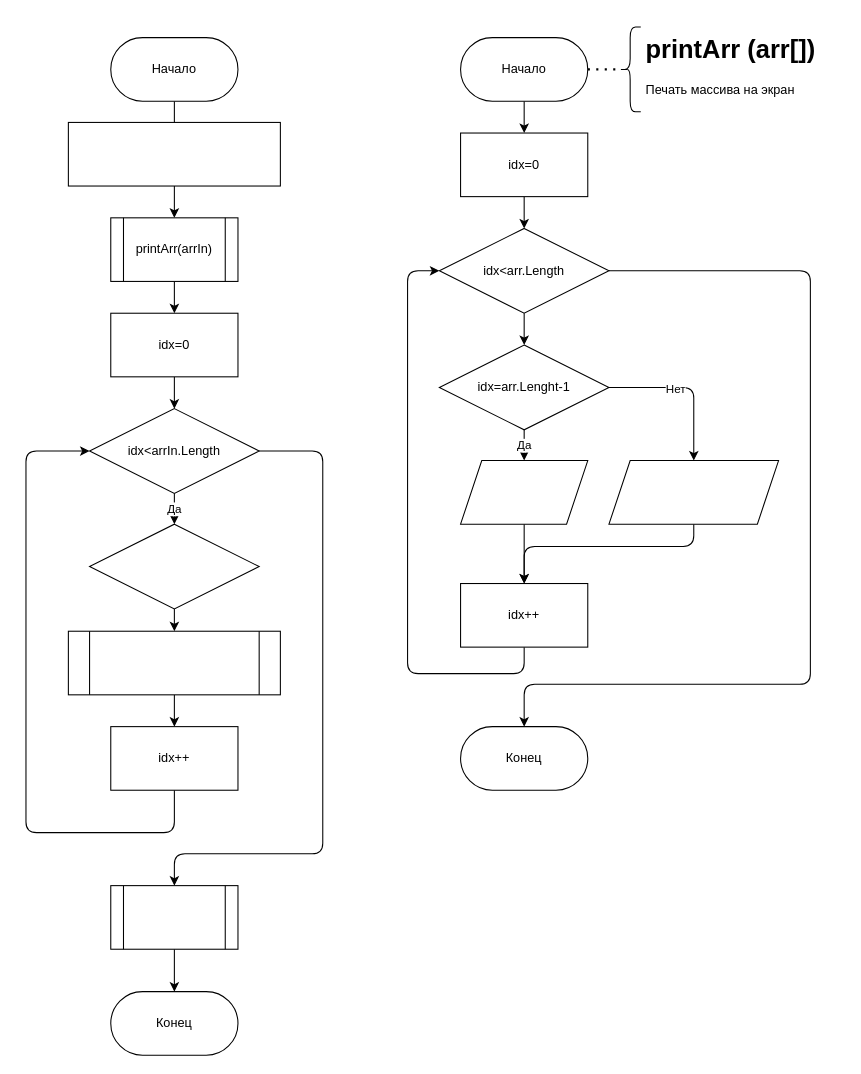
Image size: 861x1074. Some labels were removed from this diagram. The shapes that lost their labels are listed below. From the top down, each one's centre as x and y in pixels, then its label:
pixel 173 153: arrIn={One,Two,Three} arrOut={}
pixel 524 492: Вывести arr[idx]
pixel 693 492: Вывести arr[idx]+","
pixel 174 566: arrIn[idx].Length<=3
pixel 173 662: arrOut.Concat(arrIn[idx])
pixel 174 917: printArr(arrOut)
